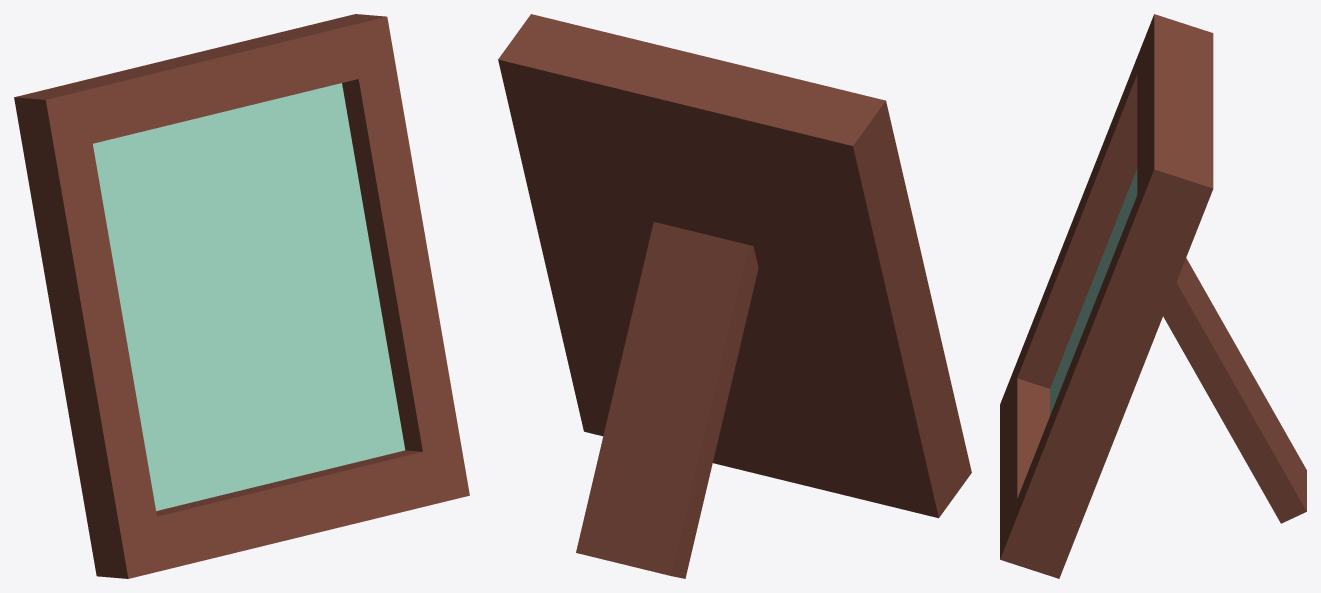
Rendered from Office_Picture.glb.
3 views of the same model, side by side, from view 1: azimuth 30°, elevation 25°; view 2: azimuth 150°, elevation 25°; view 3: azimuth 270°, elevation 25° (orthographic). The views are drawn at different scales.
Visible parts, largest first — view 1: Picture; view 2: Picture; view 3: Picture.
Part boxes in pixels (x1,y1,x2,y2): Picture: [14, 14, 469, 578]; Picture: [498, 14, 971, 578]; Picture: [1000, 14, 1306, 578].
Size of the model in its own units: 0.2064 by 0.2547 by 0.1722.
